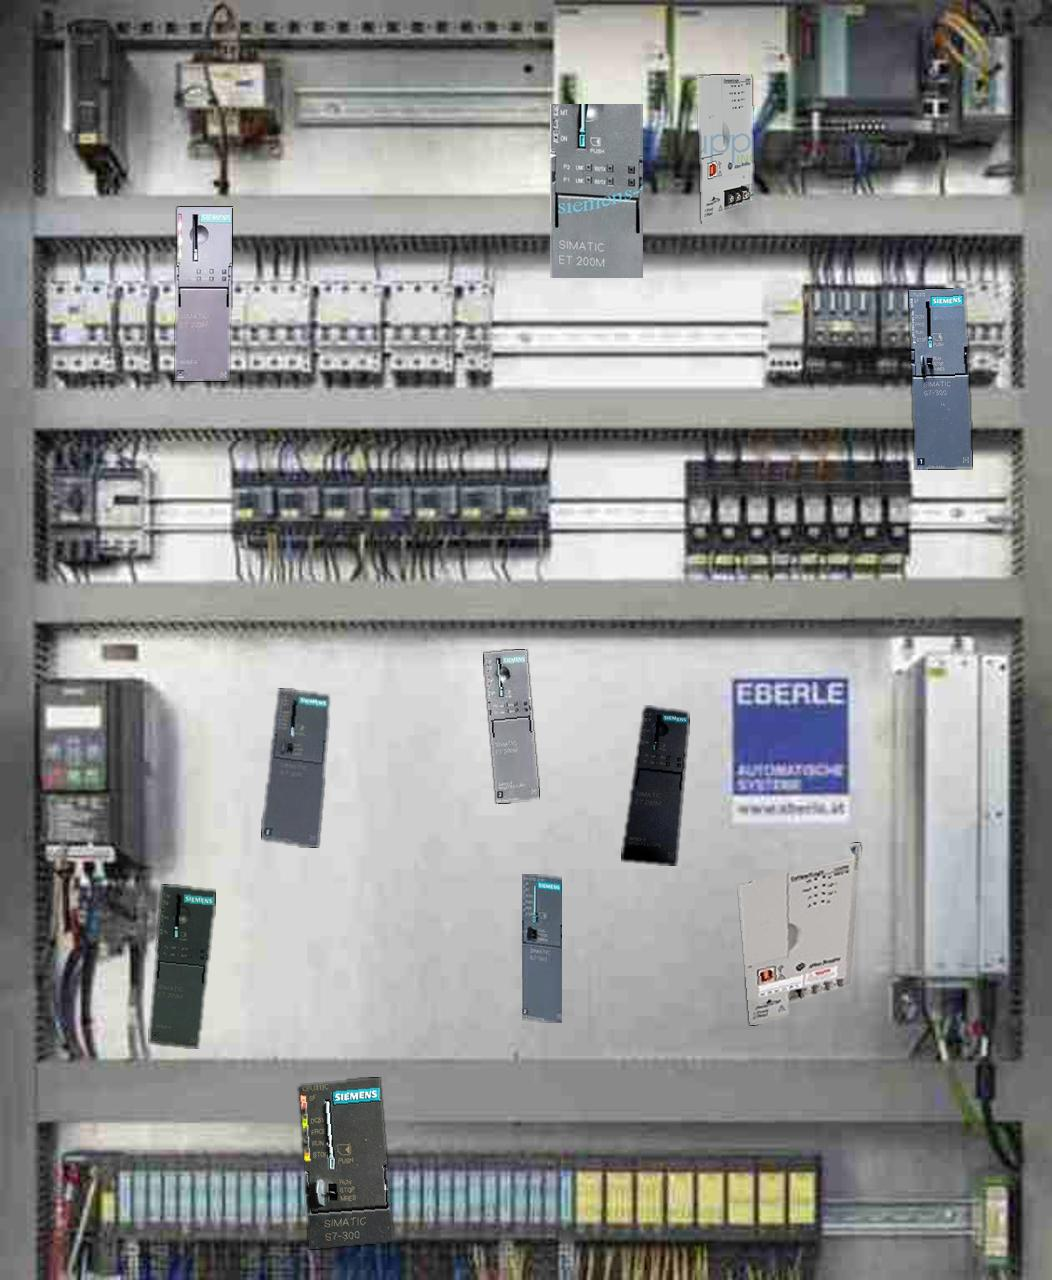AllenBradley: (739, 843, 860, 1024), (698, 74, 753, 223)
Siemens: (298, 1078, 392, 1248), (909, 288, 971, 469), (262, 689, 328, 846), (522, 874, 561, 1022)
